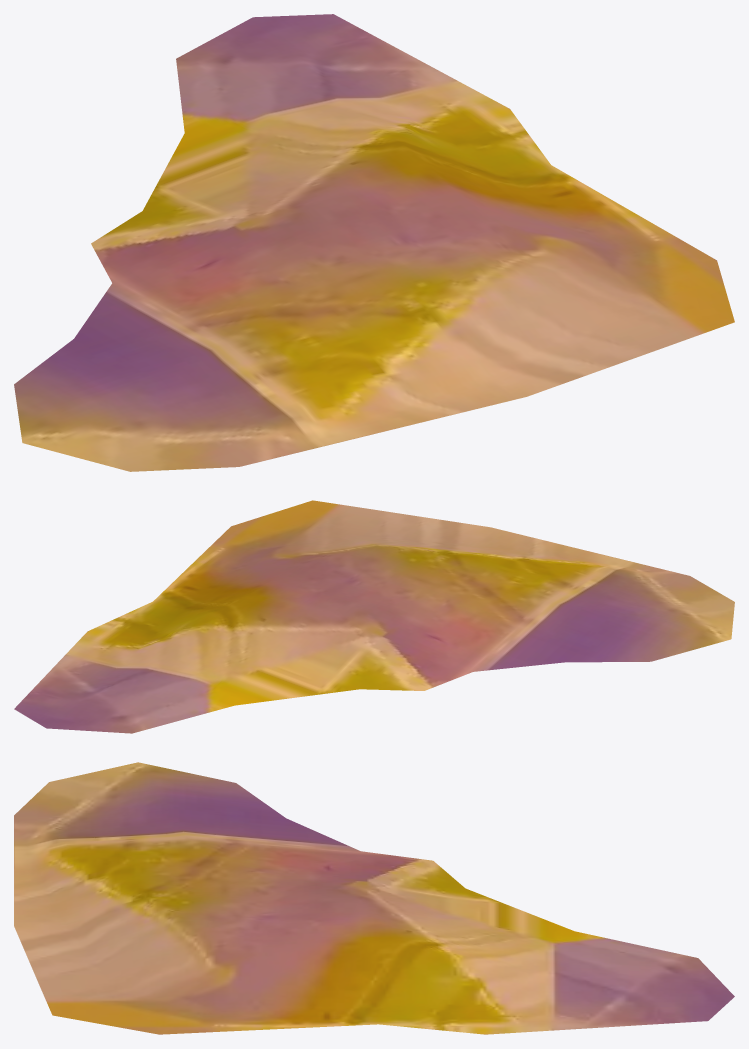
The picture shows the model from 3 angles, top to bottom: view 1: azimuth 30°, elevation 25°; view 2: azimuth 150°, elevation 25°; view 3: azimuth 270°, elevation 25°; orthographic projection. The views are drawn at different scales.
Parts seen in each view (by area): view 1: SM_Harmonized_Compound_LOD0; view 2: SM_Harmonized_Compound_LOD0; view 3: SM_Harmonized_Compound_LOD0.
Part boxes in pixels (x1,y1,x2,y2): SM_Harmonized_Compound_LOD0: (14,14,734,471); SM_Harmonized_Compound_LOD0: (14,500,734,733); SM_Harmonized_Compound_LOD0: (14,762,734,1034).
Size of the model in its own units: 1.7 by 0.084 by 1.9.
